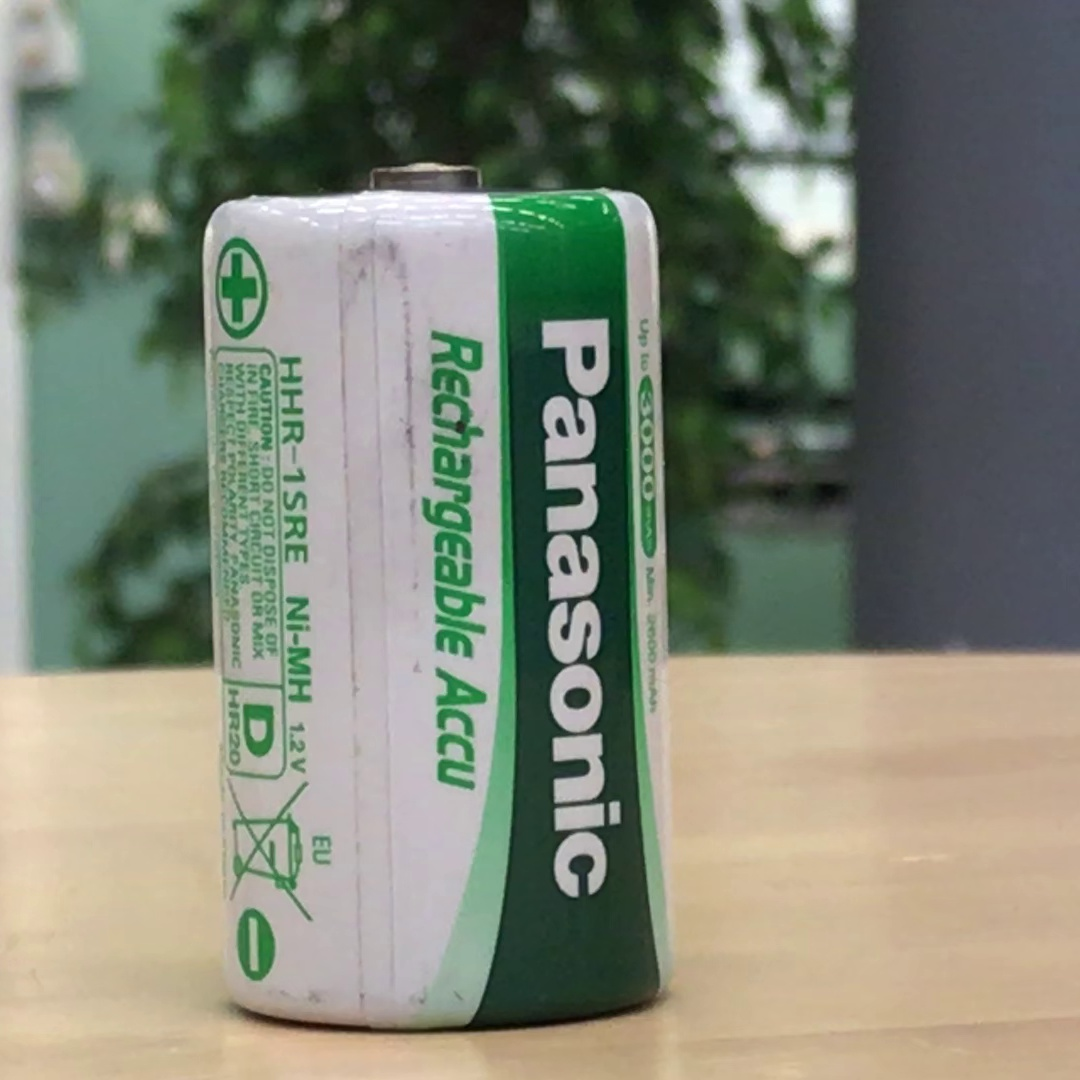keyword: (282, 715, 315, 778)
